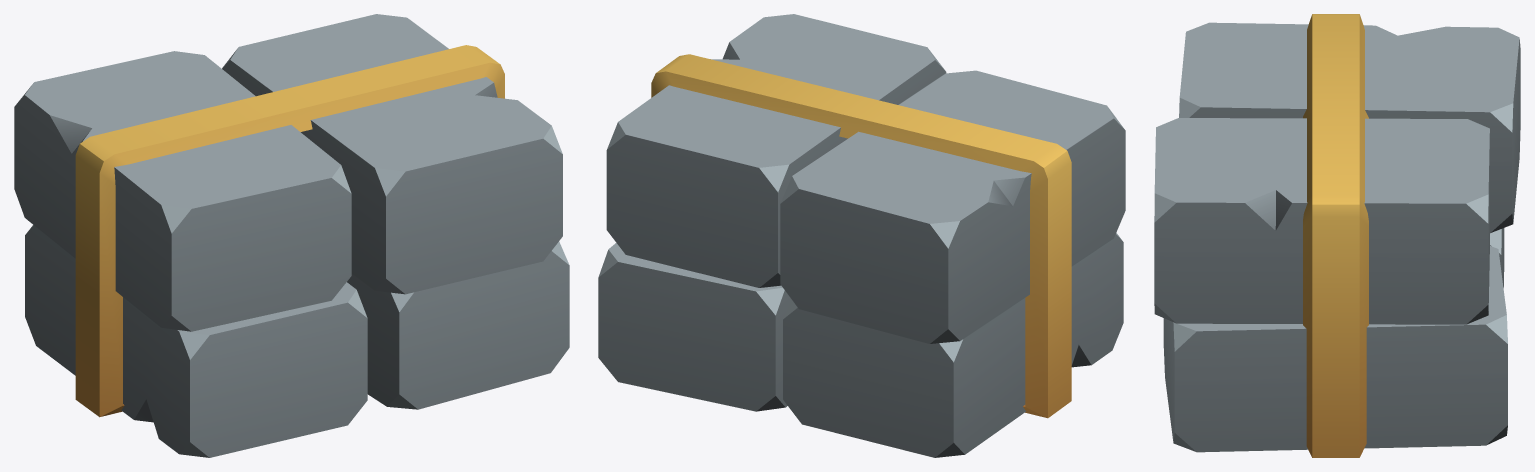
File: stone_bricks_stack_small.glb
3 renders of one model, left to right at view 1: azimuth 30°, elevation 25°; view 2: azimuth 150°, elevation 25°; view 3: azimuth 270°, elevation 25°, orthographic. The views are drawn at different scales.
Parts seen in each view (by area): view 1: Stone_Bricks_Stack_Small; view 2: Stone_Bricks_Stack_Small; view 3: Stone_Bricks_Stack_Small.
Part boxes in pixels (box(x1,y1,x2,y2)): Stone_Bricks_Stack_Small: box(14, 14, 569, 457); Stone_Bricks_Stack_Small: box(598, 14, 1125, 457); Stone_Bricks_Stack_Small: box(1154, 14, 1520, 457).
Bounding box in the file's own units: 0.6217 × 0.3799 × 0.4933.
Materials: 1 (1 with a texture image).
